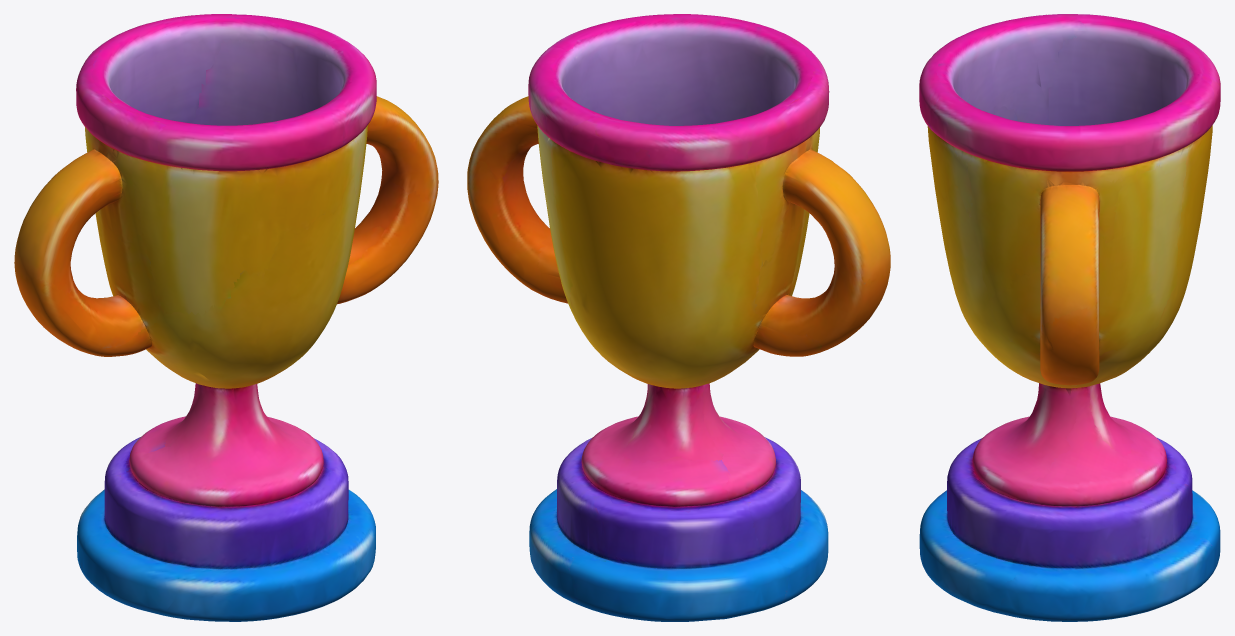
Rendered from cup__main__r2__p1.glb.
3 renders of one model, left to right at view 1: azimuth 30°, elevation 25°; view 2: azimuth 150°, elevation 25°; view 3: azimuth 270°, elevation 25°, orthographic.
Parts seen in each view (by area): view 1: model; view 2: model; view 3: model.
Part boxes in pixels (x1=…): model: x1=14, y1=14, x2=438, y2=621; model: x1=467, y1=14, x2=890, y2=621; model: x1=919, y1=14, x2=1220, y2=621.
Size of the model in its own units: 1.57 by 1.82 by 1.01.
1 material, 1 textured.
